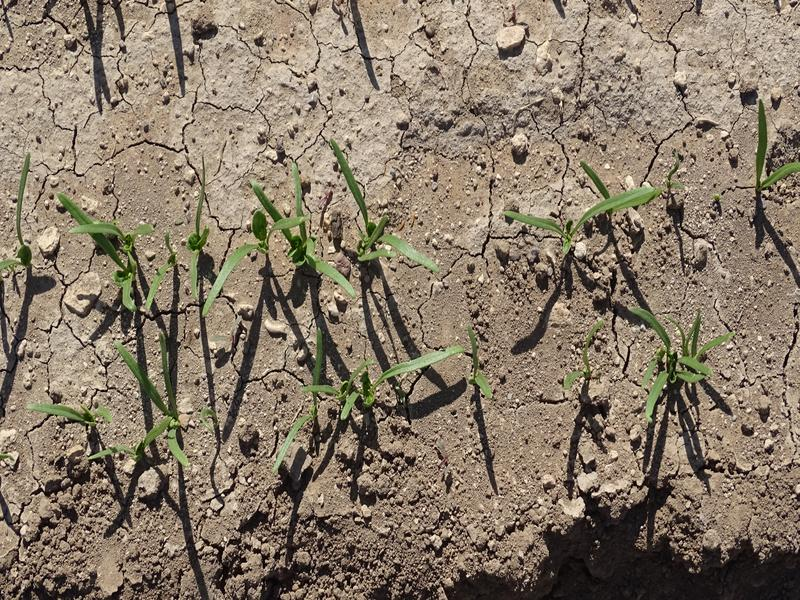Espinaca: (214, 168, 428, 294), (30, 334, 201, 475), (280, 335, 466, 454), (64, 201, 207, 311), (506, 170, 659, 266), (620, 303, 726, 414), (3, 148, 37, 280), (748, 105, 800, 191)
